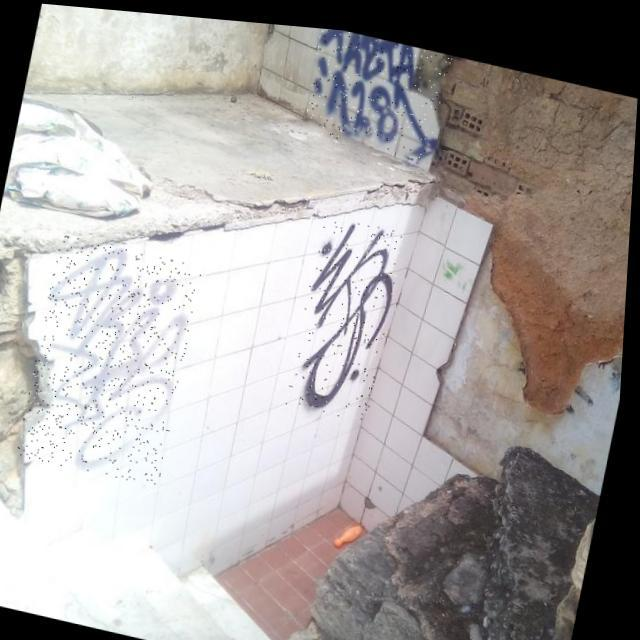-: (21, 231, 206, 487), (290, 205, 408, 418), (301, 22, 456, 154)
